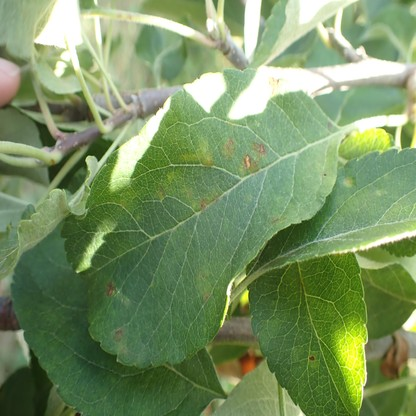rust: (107, 282, 113, 295)
scab: (266, 199, 318, 235), (187, 186, 219, 209), (194, 138, 212, 166), (195, 270, 210, 302), (113, 329, 127, 356), (220, 139, 235, 163), (241, 155, 258, 172), (248, 140, 267, 154), (158, 182, 167, 200), (343, 175, 354, 186)
